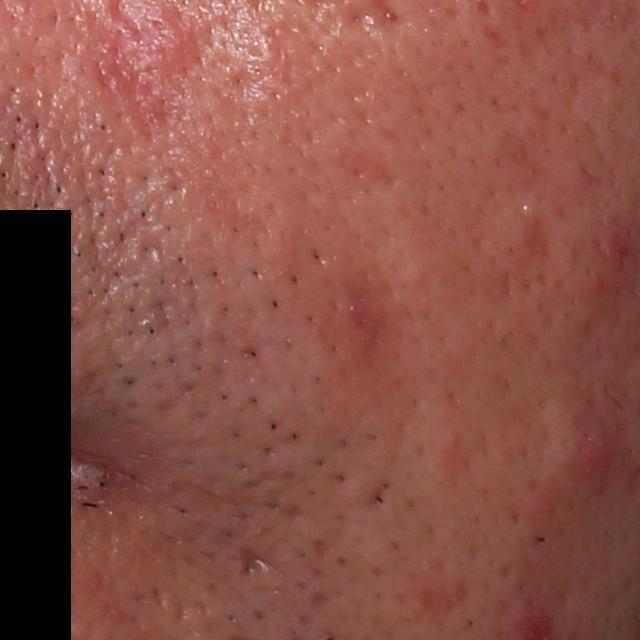atrophic_scar: (237, 543, 282, 581)
papule: (544, 404, 625, 496), (144, 23, 204, 76)
